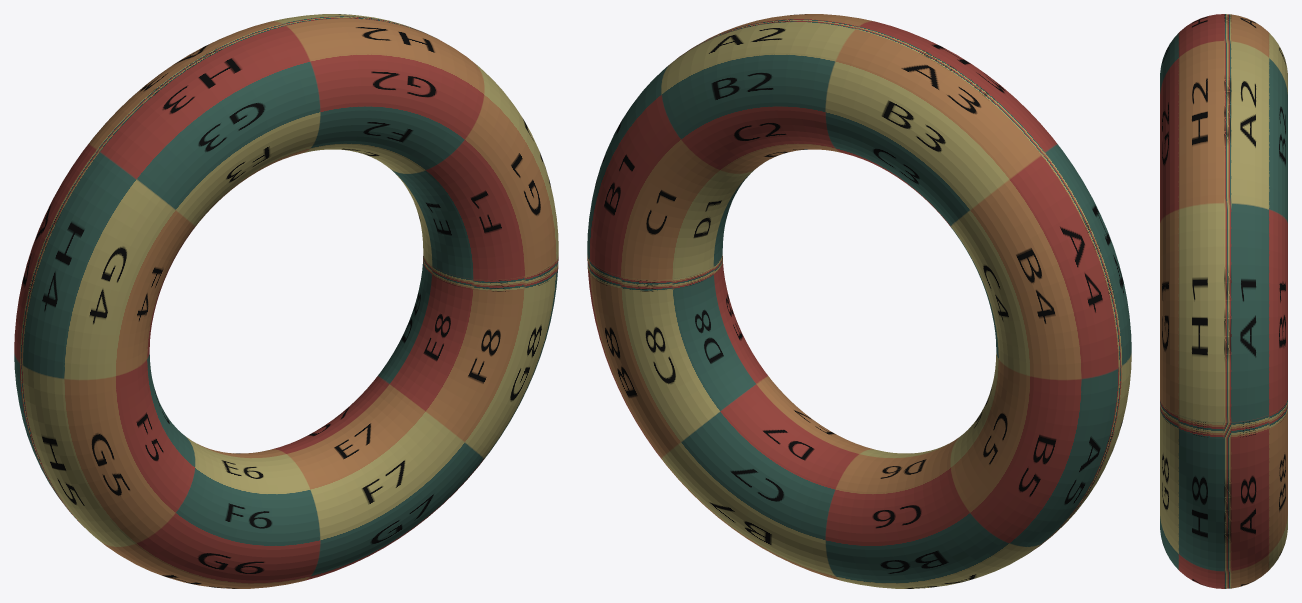
File: texture_torus_R7_r6.glb
3 renders of one model, left to right at view 1: azimuth 30°, elevation 25°; view 2: azimuth 150°, elevation 25°; view 3: azimuth 270°, elevation 25°, orthographic. The views are drawn at different scales.
Visible parts, largest first — view 1: world; view 2: world; view 3: world.
Part boxes in pixels (<box>): world: <box>14,14,558,588</box>; world: <box>587,14,1131,588</box>; world: <box>1160,14,1287,588</box>.
Size of the model in its own units: 32.89 by 32.89 by 7.32.
Materials: 1 (1 with a texture image).
